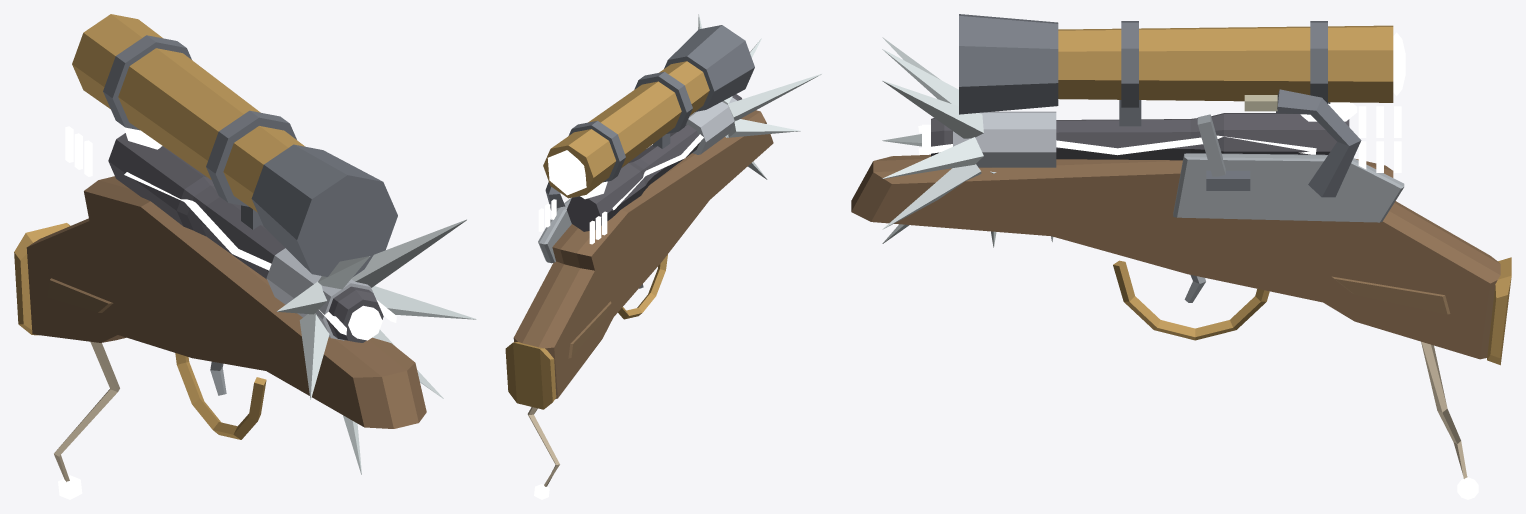
File: gun-cold-reader.glb
3 views of the same model, side by side, from view 1: azimuth 30°, elevation 25°; view 2: azimuth 150°, elevation 25°; view 3: azimuth 270°, elevation 25° (orthographic). The views are drawn at different scales.
Parts seen in each view (by area): view 1: gun-cold-reader, sway_sinew, pulse_vein, pulse_breath; view 2: gun-cold-reader, pulse_breath, sway_sinew, pulse_vein; view 3: gun-cold-reader, sway_sinew, pulse_vein, pulse_breath.
Boxes of the visible parts, bbox=[...] form: gun-cold-reader: bbox=[14, 14, 476, 474]; sway_sinew: bbox=[54, 341, 119, 499]; pulse_vein: bbox=[124, 172, 396, 335]; pulse_breath: bbox=[65, 126, 92, 176]; gun-cold-reader: bbox=[505, 14, 821, 409]; pulse_breath: bbox=[538, 199, 607, 244]; sway_sinew: bbox=[527, 407, 559, 499]; pulse_vein: bbox=[612, 134, 703, 210]; gun-cold-reader: bbox=[851, 14, 1511, 365]; sway_sinew: bbox=[1421, 341, 1478, 499]; pulse_vein: bbox=[918, 125, 1316, 155]; pulse_breath: bbox=[1358, 106, 1401, 172].
Size of the model in its own units: 0.1925 by 0.4852 by 0.5999.
